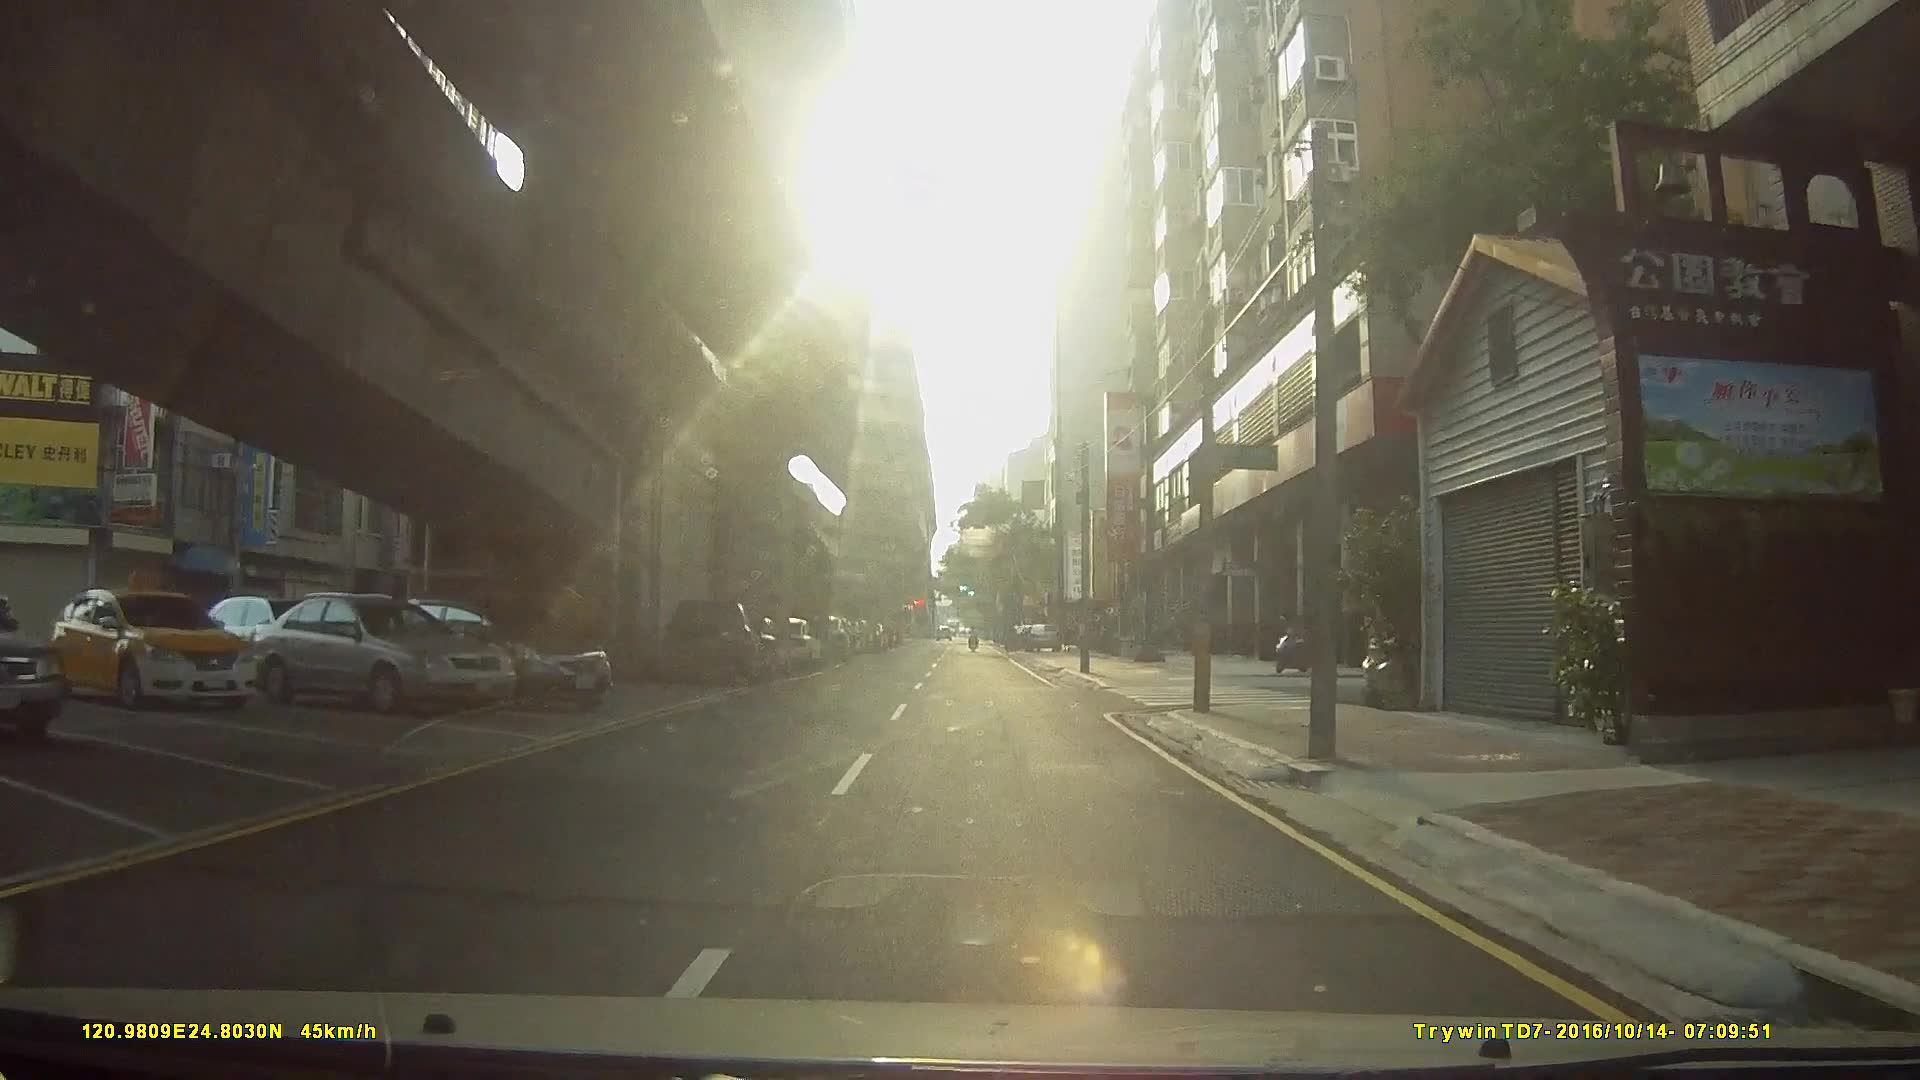vehicle: (245, 591, 516, 713), (365, 592, 615, 709), (45, 585, 255, 709), (0, 585, 65, 741), (658, 595, 765, 683)
